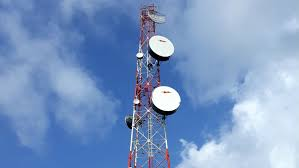ba: (135, 27, 179, 62), (145, 81, 183, 119)
